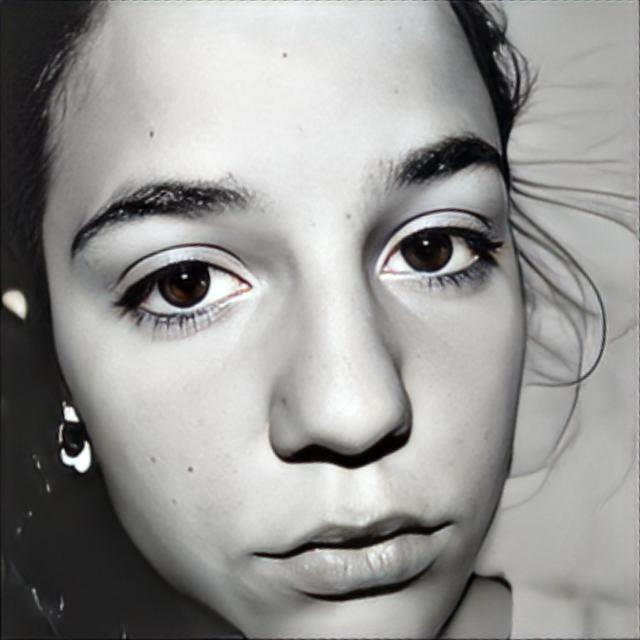neutral: (45, 0, 525, 636)
